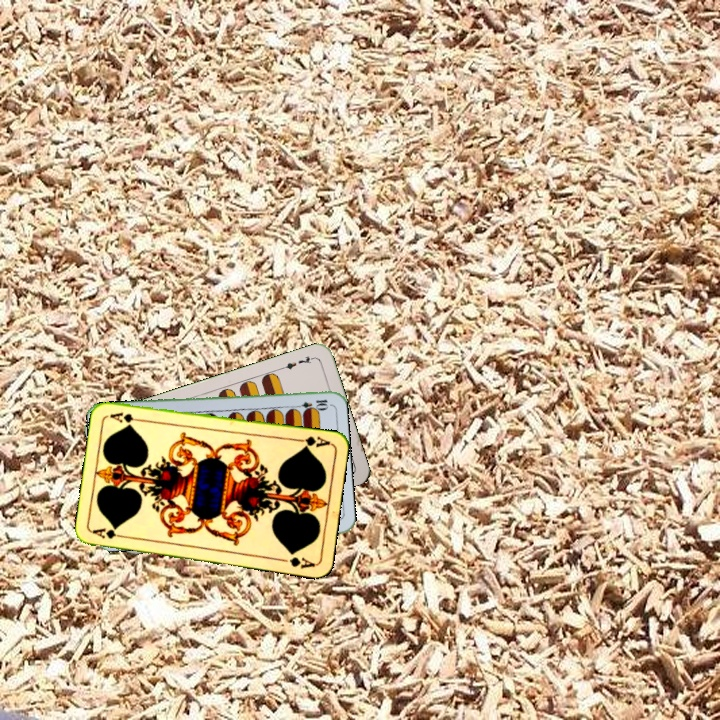E10: (290, 395, 331, 412)
E7: (277, 352, 317, 372)
GA: (292, 432, 332, 451), (89, 524, 130, 542)
